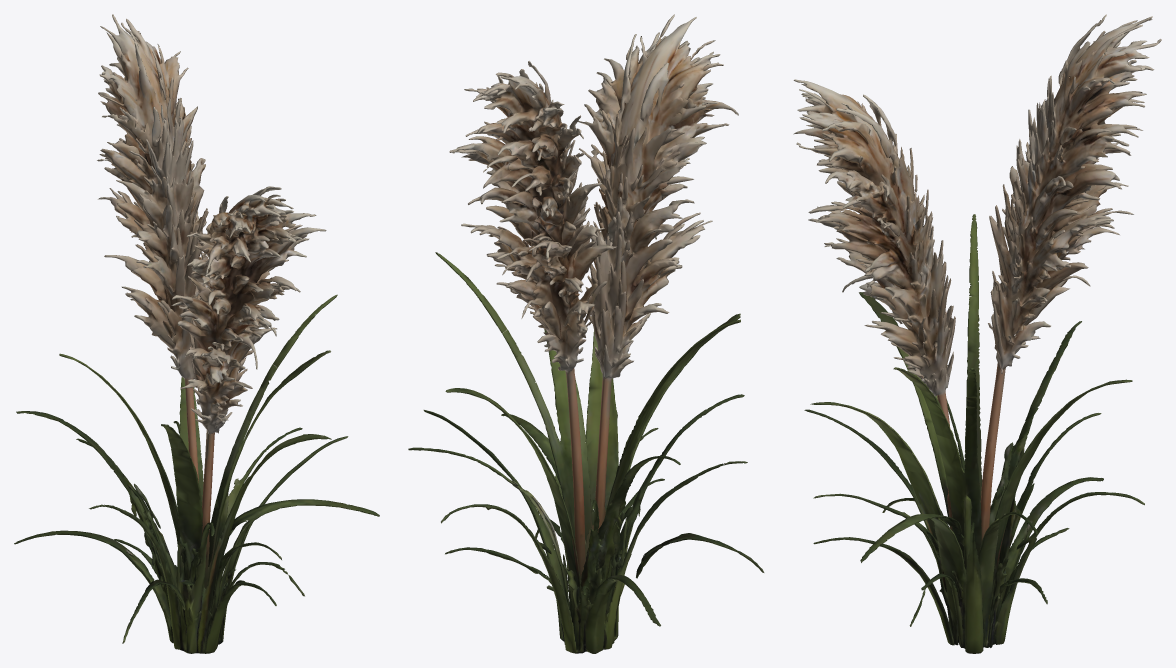
File: nature-grass-pampas.glb
3 views of the same model, side by side, from view 1: azimuth 30°, elevation 25°; view 2: azimuth 150°, elevation 25°; view 3: azimuth 270°, elevation 25° (orthographic). The views are drawn at different scales.
Visible parts, largest first — view 1: tripo_node_e781d0af-05af-4b92-89d5-e7a066a8e367; view 2: tripo_node_e781d0af-05af-4b92-89d5-e7a066a8e367; view 3: tripo_node_e781d0af-05af-4b92-89d5-e7a066a8e367.
Part boxes in pixels (bbox=[...]): tripo_node_e781d0af-05af-4b92-89d5-e7a066a8e367: bbox=[14, 14, 379, 653]; tripo_node_e781d0af-05af-4b92-89d5-e7a066a8e367: bbox=[408, 14, 764, 653]; tripo_node_e781d0af-05af-4b92-89d5-e7a066a8e367: bbox=[793, 14, 1161, 653].
Bounding box in the file's own units: 1.05 × 2 × 1.07.
Materials: 1 (1 with a texture image).
